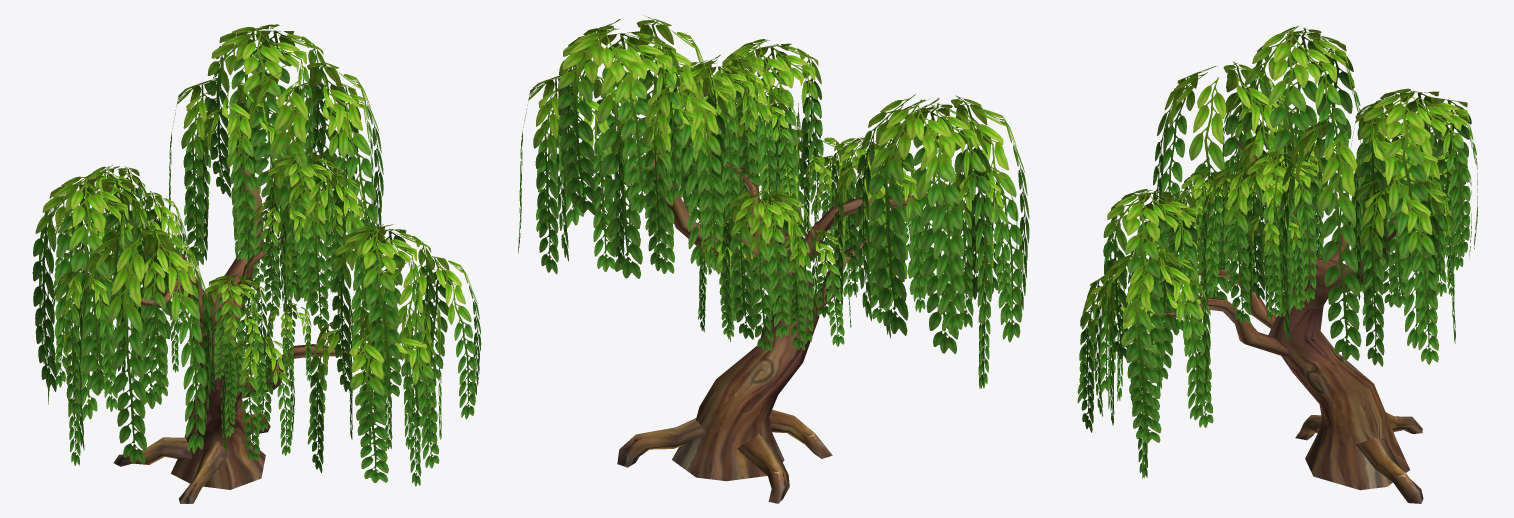
File: tyz_liushu.FBX
3 views of the same model, side by side, from view 1: azimuth 30°, elevation 25°; view 2: azimuth 150°, elevation 25°; view 3: azimuth 270°, elevation 25° (orthographic). The views are drawn at different scales.
Parts seen in each view (by area): view 1: Plane039; view 2: Plane039; view 3: Plane039.
Boxes of the visible parts, left/top/right/bottom form: Plane039: left=32, top=24, right=481, bottom=503; Plane039: left=518, top=15, right=1029, bottom=503; Plane039: left=1077, top=25, right=1477, bottom=503.
Size of the model in its own units: 574 by 554 by 529.
